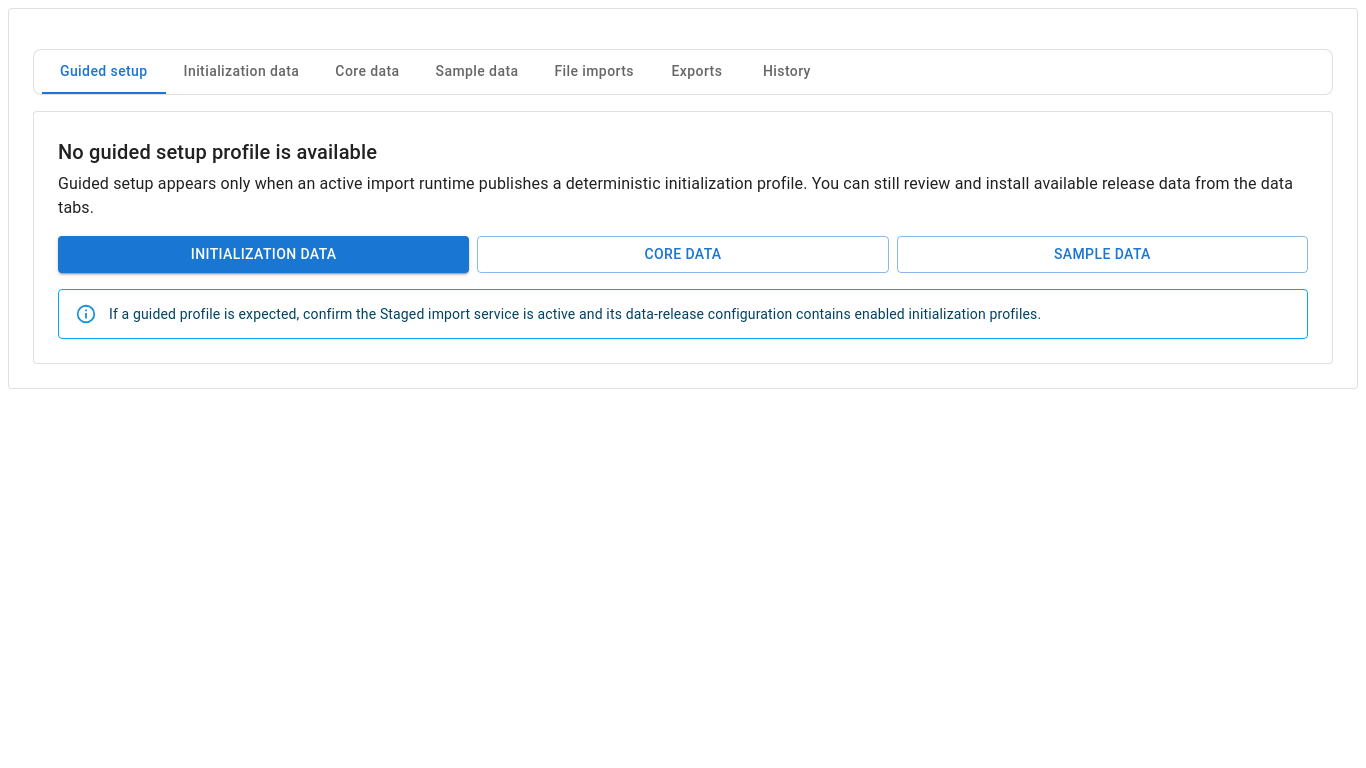
Scenario: ImportExportRoutePage › keeps guided setup useful when no initialization profiles are exposed
Expected: the heading "No guided setup profile is available" is shown, [58,140,377,164]
Expected: the text "You can still review and install available release data" is shown, [58,174,1293,217]
Click the button "Initialization data": [264, 254] box [58,236,469,272]
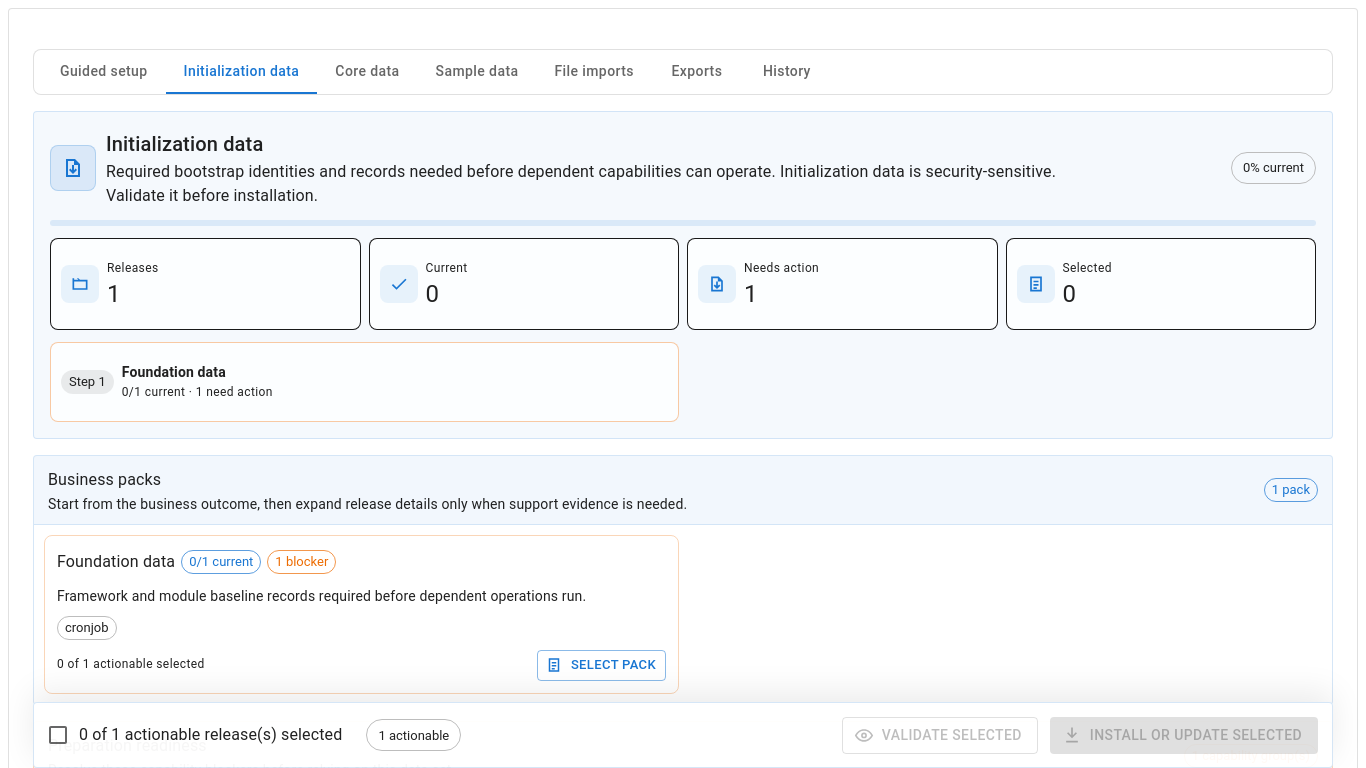
Expected: the element named "Initialization data action footer" is shown, [33,702,1333,767]
